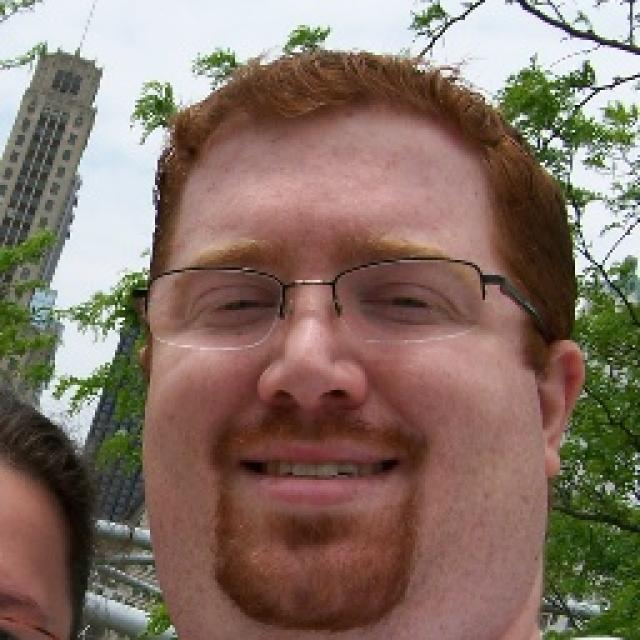earlobe: (543, 422, 561, 479)
eye: (363, 288, 445, 316), (204, 289, 275, 320)
nose: (255, 384, 365, 441)
wholeear: (532, 340, 586, 480)
